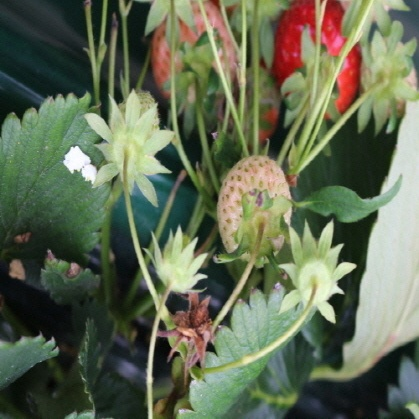Gray_Mold: (156, 31, 216, 369)
